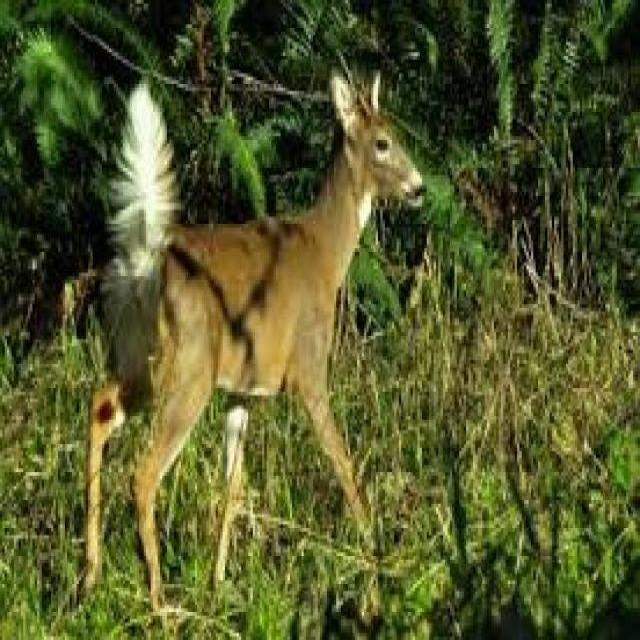deer: (85, 65, 428, 603)
